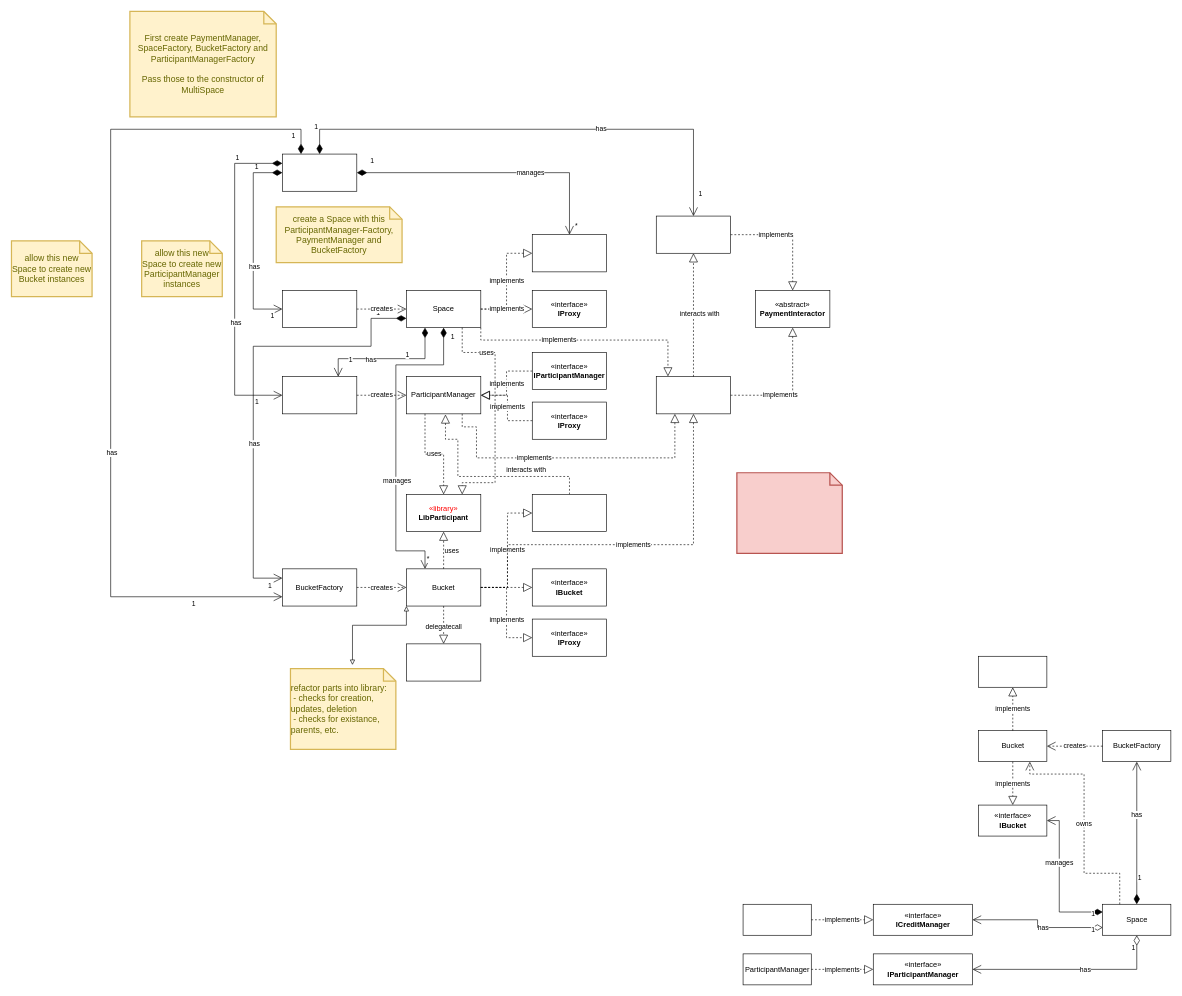
The diagram is 1182 pixels wide and 996 high, and some of its shapes have lost their labels. The shapes that lost their labels are listed below. From the top down, each one's centre as x and y in pixels, then its label:
At pixel 319 172: "MultiSpace".
At pixel 569 253: "«interface» ISpace".
At pixel 693 234: "PaymentManager".
At pixel 319 309: "SpaceFactory".
At pixel 319 395: "ParticipantManager- Factory".
At pixel 693 395: "«abstract» PaymentAdapter".
At pixel 569 513: "«abstract» ParticipantManager-Adapter".
At pixel 789 513: "If possible refactor abstract contracts into libraries!".
At pixel 443 662: "KeyManager".
At pixel 1012 671: "«interface» Ownable".
At pixel 776 919: "CreditManager".
